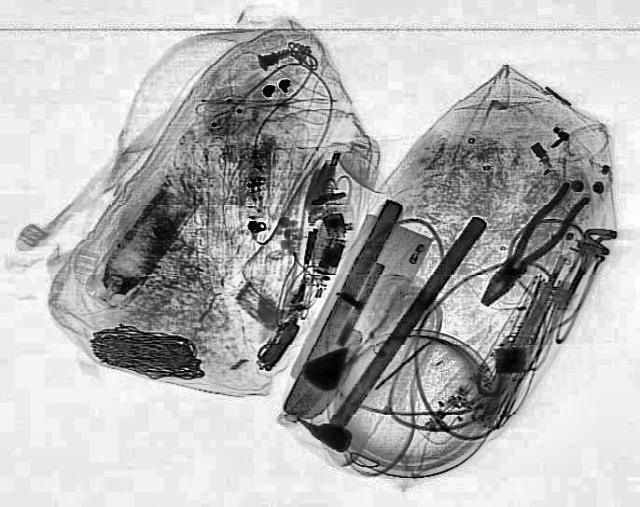Pliers: (464, 178, 598, 313)
